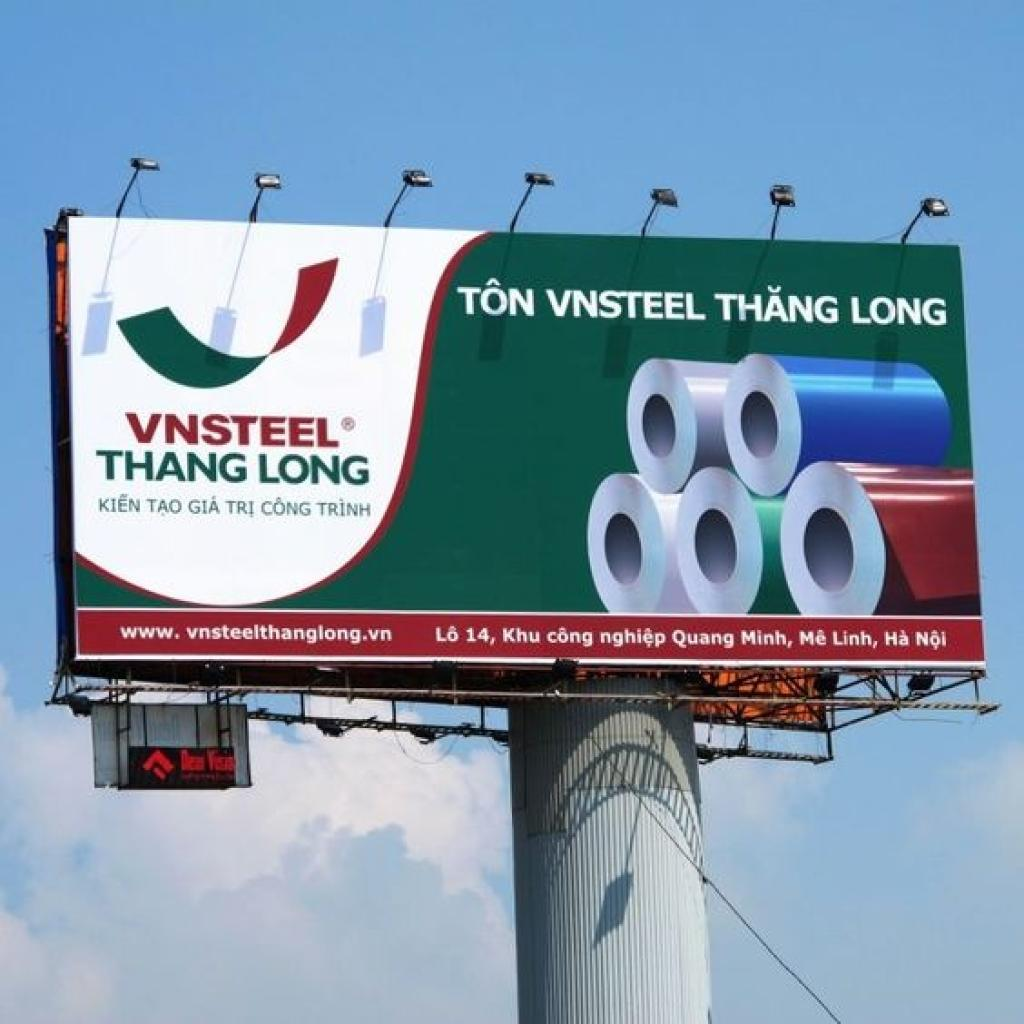text: (120, 408, 347, 450), (112, 621, 396, 646), (539, 285, 712, 325), (90, 446, 250, 486), (710, 285, 844, 329), (256, 450, 372, 490), (452, 272, 539, 322), (597, 624, 670, 654), (666, 624, 739, 652), (260, 494, 314, 521), (737, 626, 797, 650), (828, 625, 884, 650), (314, 498, 374, 521), (912, 624, 954, 656), (545, 625, 597, 650), (187, 490, 227, 519), (496, 625, 544, 648), (463, 623, 503, 650), (98, 492, 143, 514), (795, 625, 832, 650), (221, 498, 258, 521), (144, 498, 186, 518), (432, 621, 463, 648), (882, 625, 914, 650)
